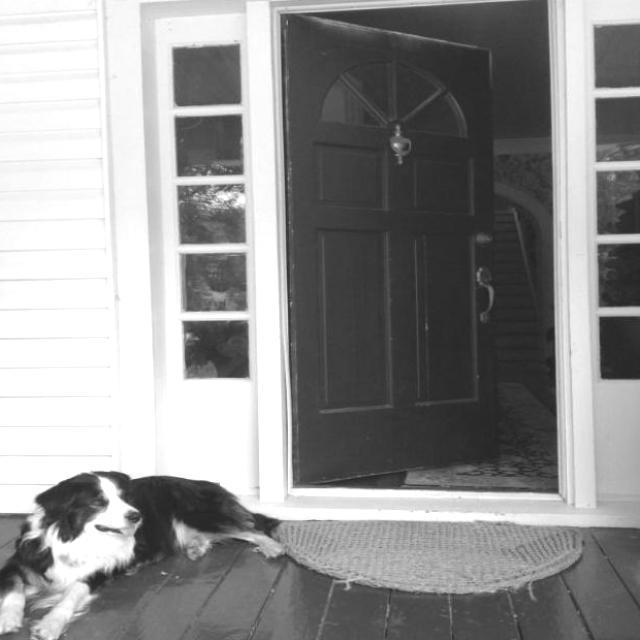door: (279, 13, 498, 486)
